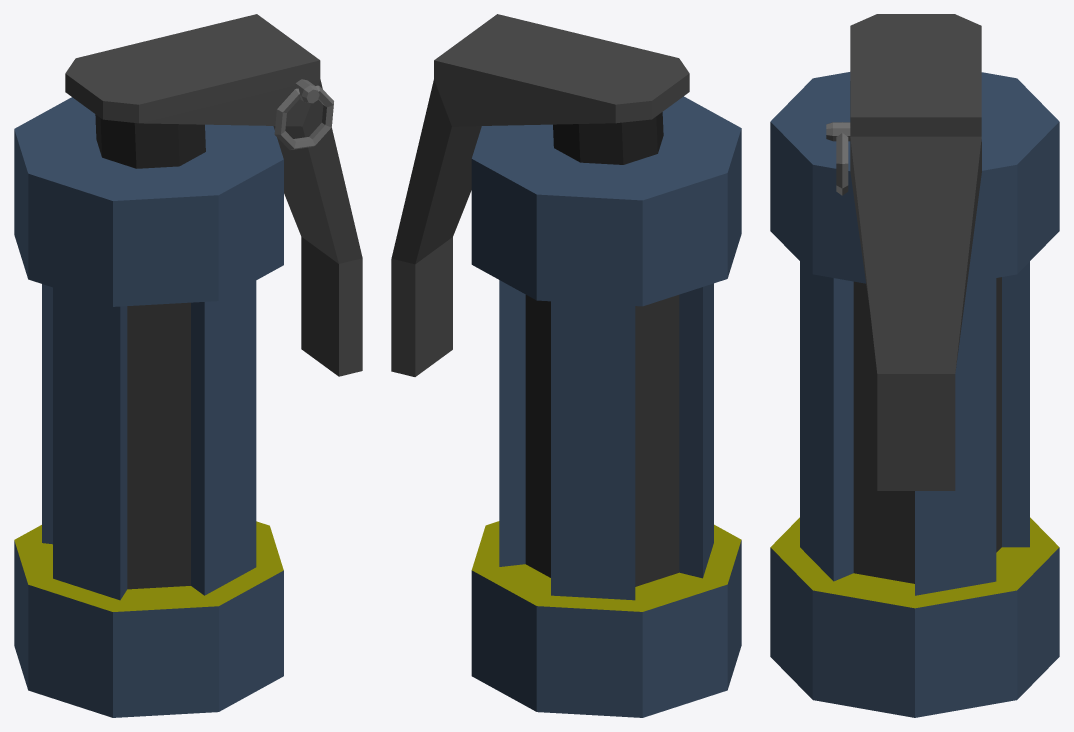
Rendered from Grenade_E_V1.FBX.
3 renders of one model, left to right at view 1: azimuth 30°, elevation 25°; view 2: azimuth 150°, elevation 25°; view 3: azimuth 270°, elevation 25°, orthographic. The views are drawn at different scales.
Visible parts, largest first — view 1: Grenade_E_V1; view 2: Grenade_E_V1; view 3: Grenade_E_V1.
Part boxes in pixels (x1,y1,x2,y2): Grenade_E_V1: [14, 14, 362, 717]; Grenade_E_V1: [391, 14, 741, 717]; Grenade_E_V1: [770, 14, 1059, 717].
Size of the model in its own units: 27.72 by 49.35 by 21.18.
